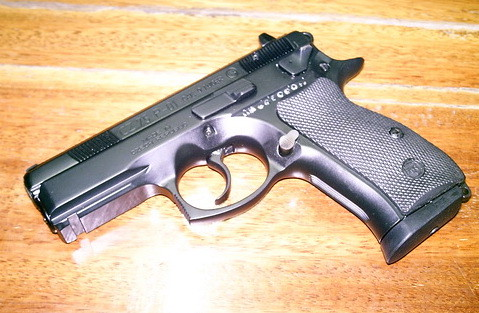gun: (21, 24, 474, 270)
